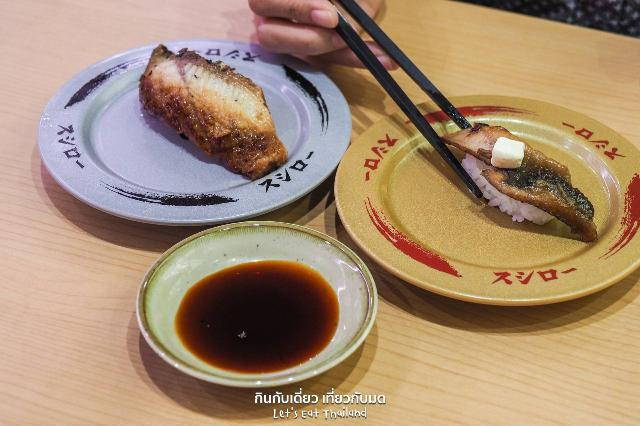jangold: (374, 234, 640, 309), (333, 140, 450, 258), (576, 95, 640, 237), (464, 81, 589, 135)
janwhite: (19, 60, 123, 206), (123, 175, 314, 221), (286, 53, 346, 186)
